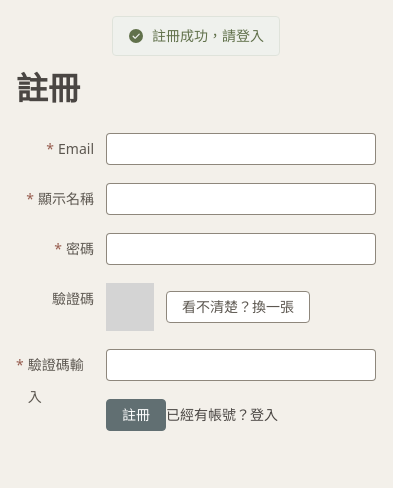
Test: RegisterPage › CAPTCHA-BW-002：驗證碼錯誤時顯示提示且自動換發新驗證碼
In the field labelled "Email": coordinates (241, 149) [117,134,365,164], type "user@example.com"
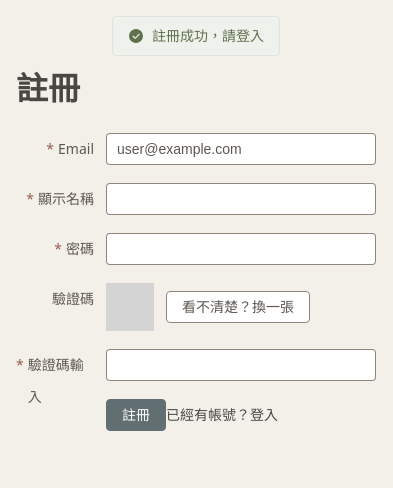
In the field labelled "顯示名稱": coordinates (241, 199) [117,184,365,214], type "Alice"
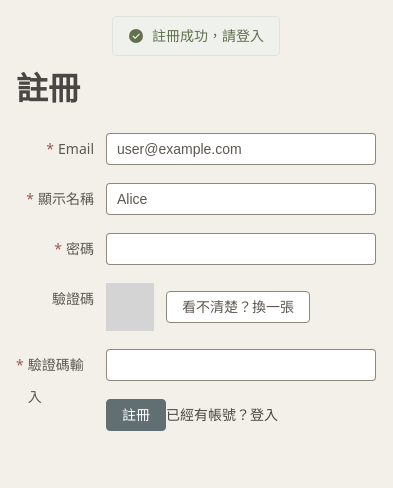
In the password field labelled "密碼": coordinates (241, 249) [117,234,365,264], type "Password123"
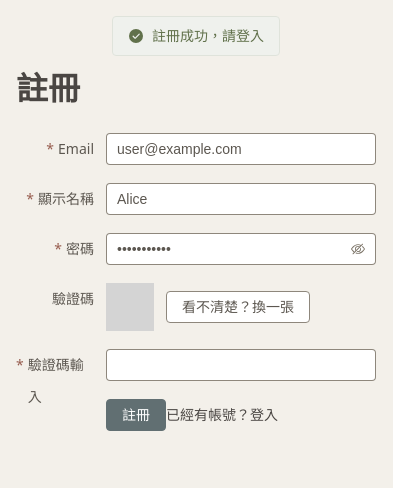
In the field labelled "驗證碼輸入": coordinates (241, 365) [117,350,365,380], type "TEST"
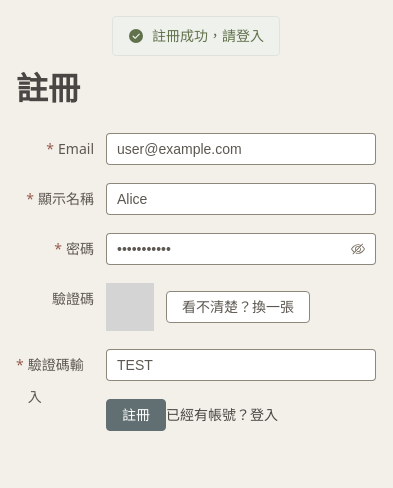
Submit the form, box [16,133,376,431]
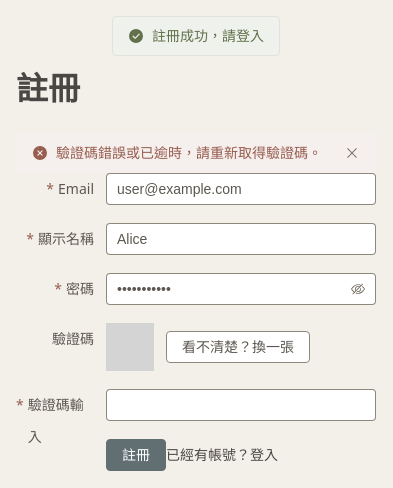
Expected: the text "驗證碼錯誤或已逾時，請重新取得驗證碼。" is shown, [56,141,322,165]
